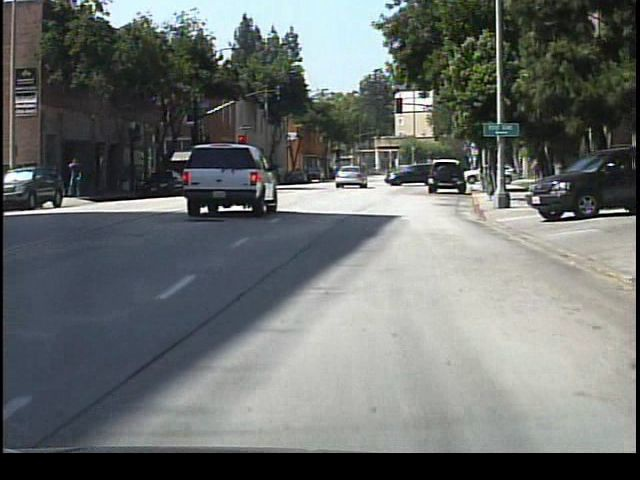person: (67, 157, 88, 201), (327, 162, 345, 187), (482, 155, 496, 182)
